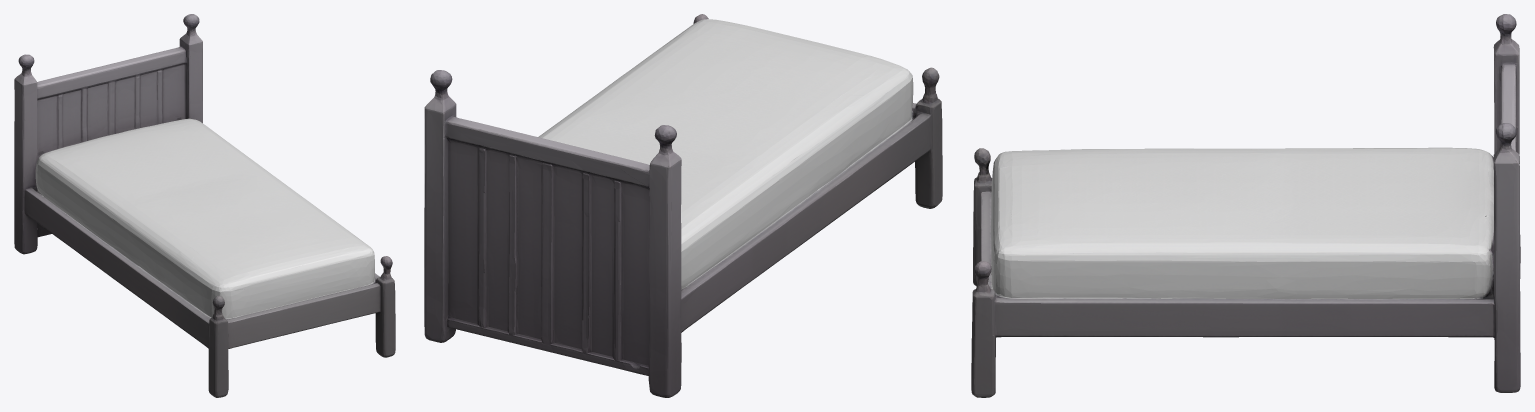
File: single bed.glb
3 renders of one model, left to right at view 1: azimuth 30°, elevation 25°; view 2: azimuth 150°, elevation 25°; view 3: azimuth 270°, elevation 25°, orthographic. The views are drawn at different scales.
Visible parts, largest first — view 1: world; view 2: world; view 3: world.
Part boxes in pixels (left/top/right/bottom): world: left=14, top=14, right=395, bottom=397; world: left=424, top=14, right=942, bottom=397; world: left=971, top=14, right=1520, bottom=397.
Bounding box in the file's own units: 0.5146 × 0.5419 × 0.9989.
Materials: 1 (1 with a texture image).
